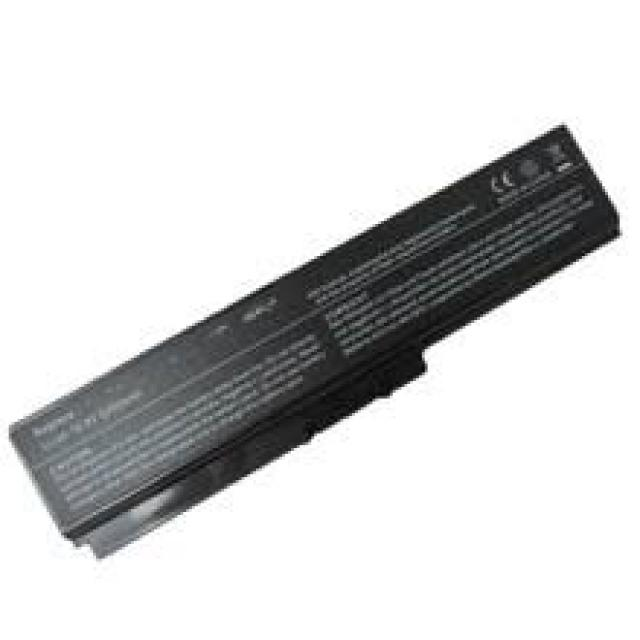non-organic waste: (8, 118, 622, 560)
